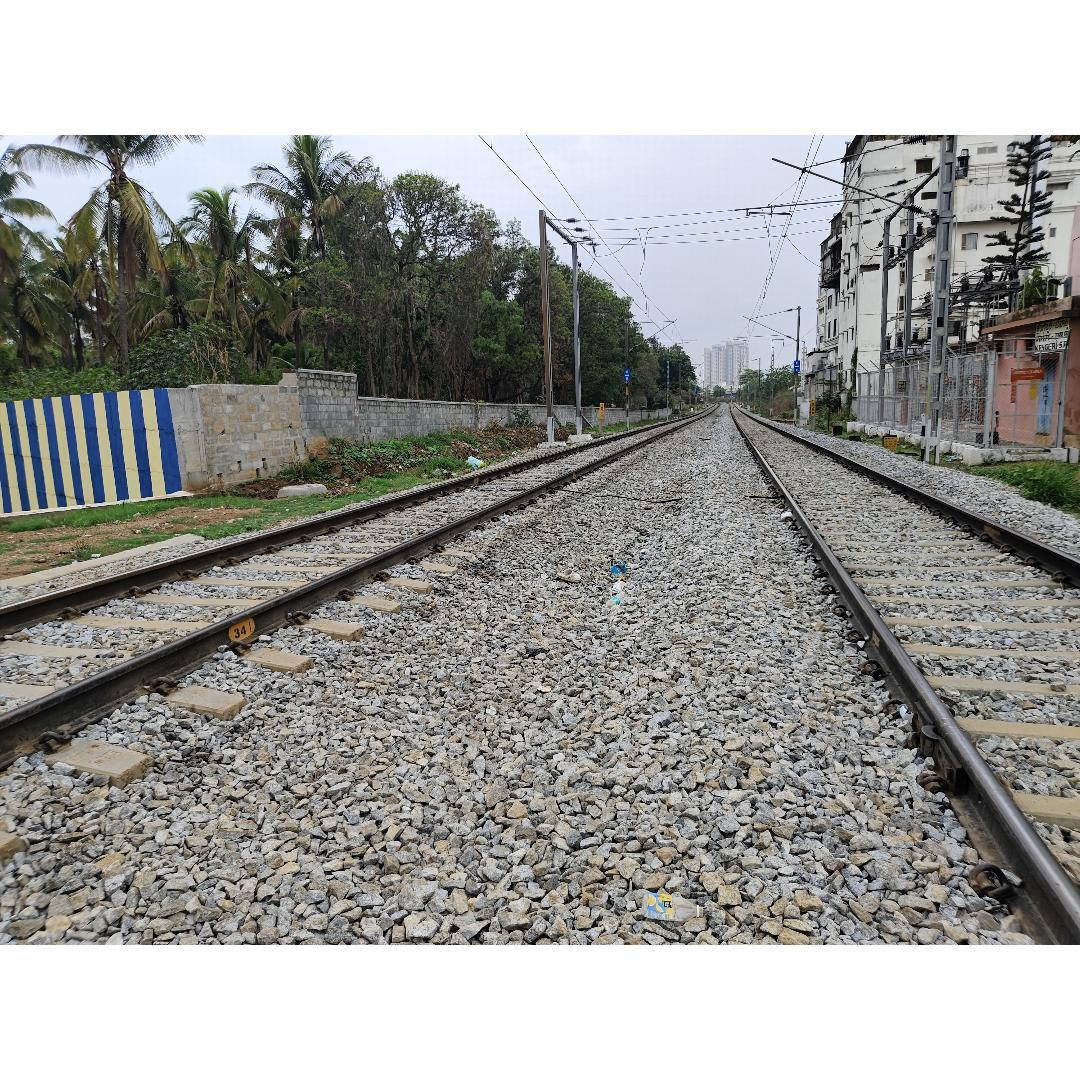track: (722, 400, 1080, 945)
